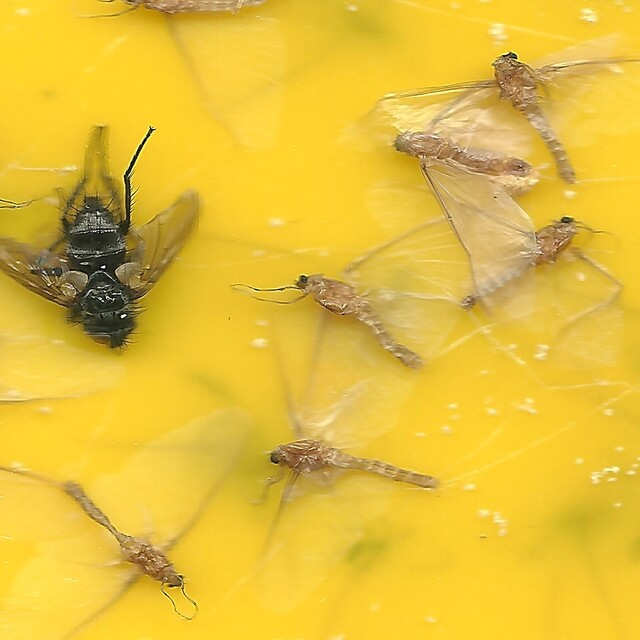Ephemeroptera: (292, 270, 427, 374), (62, 476, 186, 589), (462, 214, 578, 314), (491, 51, 578, 181), (268, 436, 441, 492), (388, 130, 534, 183)
